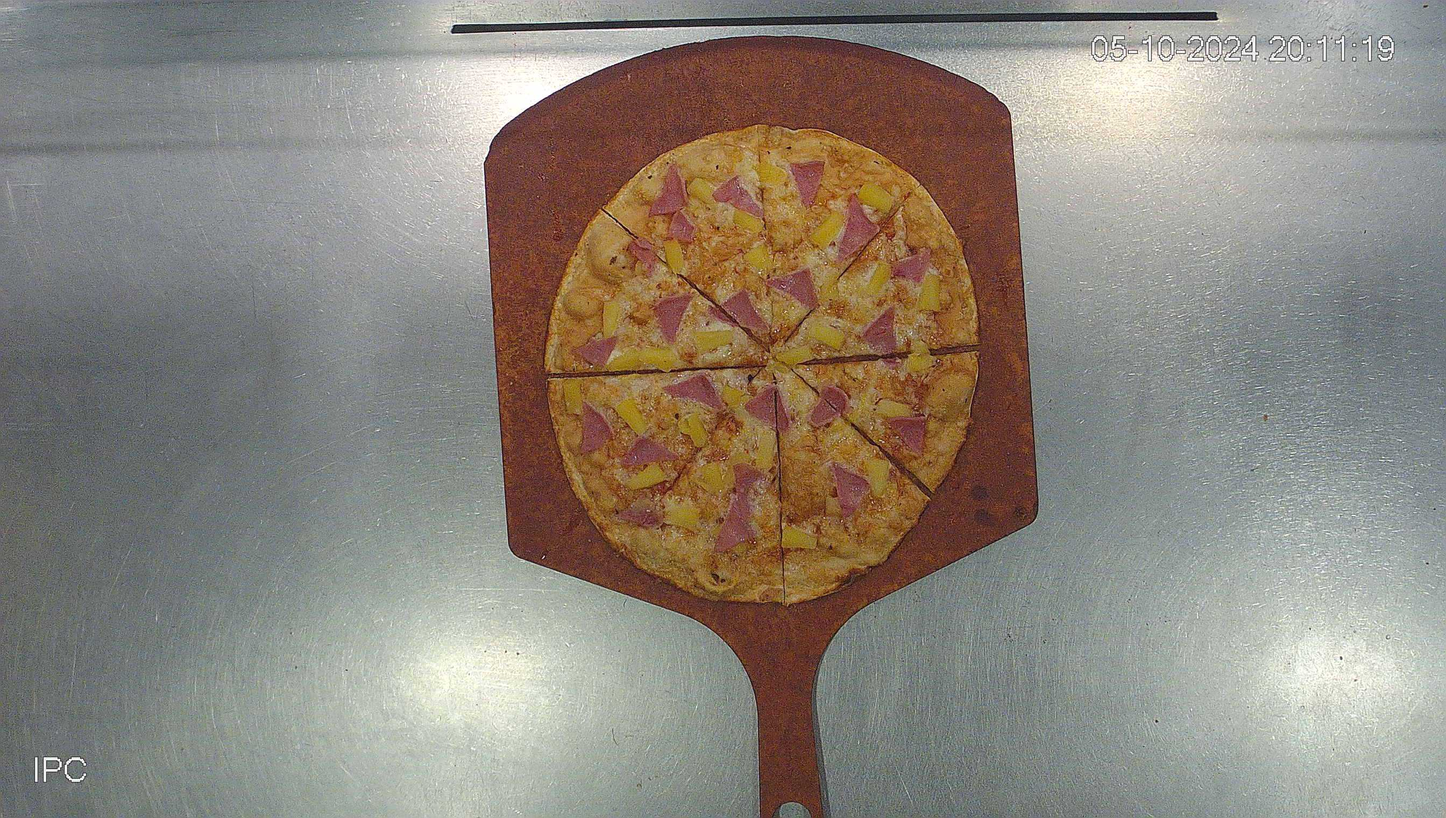manager_choice: (544, 122, 979, 607)
